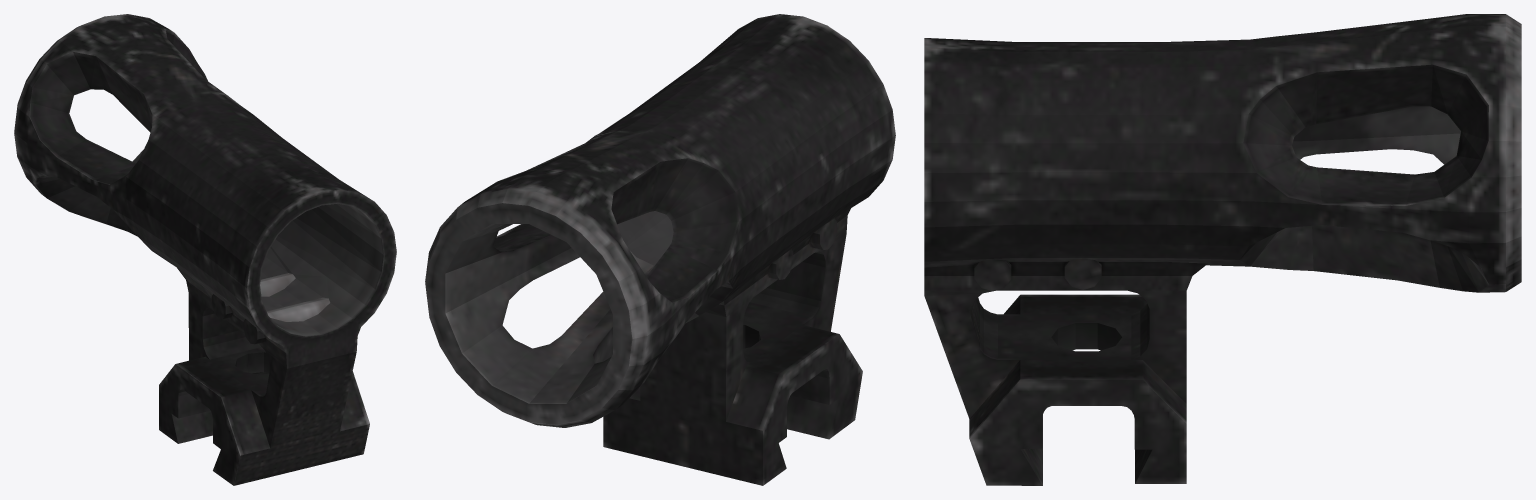
The picture shows the model from 3 angles, left to right: view 1: azimuth 30°, elevation 25°; view 2: azimuth 150°, elevation 25°; view 3: azimuth 270°, elevation 25°; orthographic projection. The views are drawn at different scales.
Visible parts, largest first — view 1: TW_5c471bfc2e221602b21d4e17_PZ_Import; view 2: TW_5c471bfc2e221602b21d4e17_PZ_Import; view 3: TW_5c471bfc2e221602b21d4e17_PZ_Import.
Part boxes in pixels (x1,y1,x2,y2): TW_5c471bfc2e221602b21d4e17_PZ_Import: [14, 14, 396, 485]; TW_5c471bfc2e221602b21d4e17_PZ_Import: [425, 14, 895, 485]; TW_5c471bfc2e221602b21d4e17_PZ_Import: [924, 14, 1521, 485].
Size of the model in its own units: 0.0147 by 0.0312 by 0.0241.
1 material, 1 textured.
